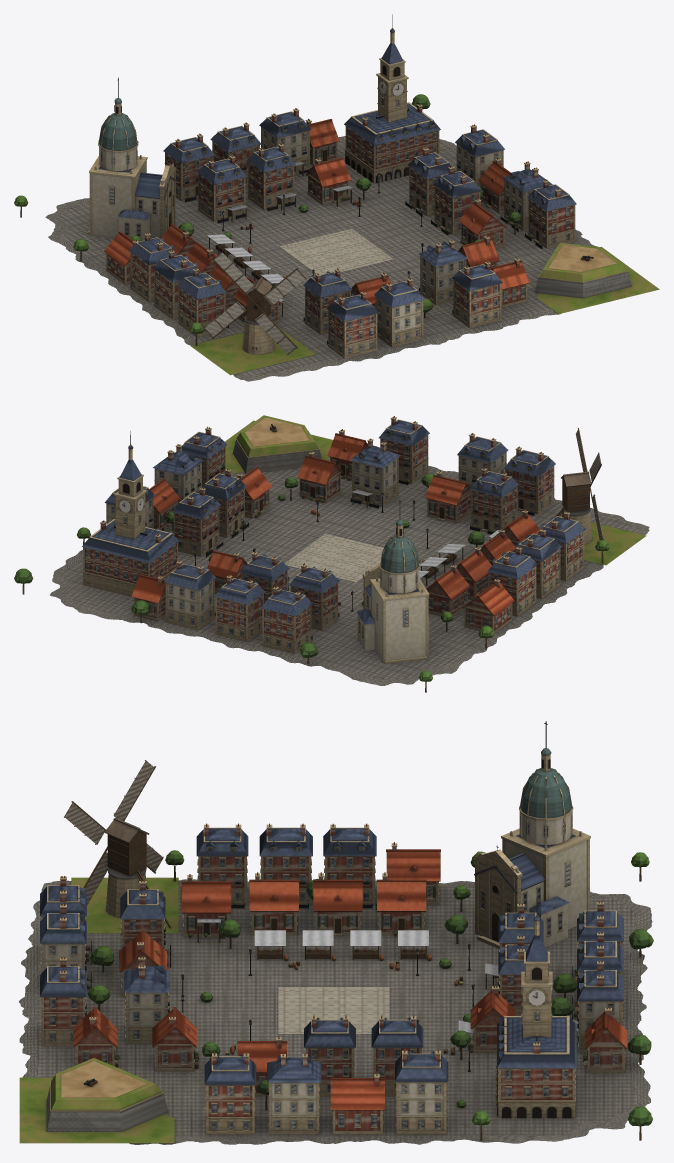
The model's file is gunpowder-town-big-b-europe-5f1c51da.glb.
3 renders of one model, top to bottom at view 1: azimuth 30°, elevation 25°; view 2: azimuth 150°, elevation 25°; view 3: azimuth 270°, elevation 25°, orthographic. The views are drawn at different scales.
Visible parts, largest first — view 1: LOD0; view 2: LOD0; view 3: LOD0.
Boxes of the visible parts, left/top/right/bottom form: LOD0: left=14, top=14, right=659, bottom=381; LOD0: left=14, top=415, right=649, bottom=692; LOD0: left=19, top=721, right=653, bottom=1144.
Size of what is drawn, in the model's own units: 8.05 by 2.8 by 8.12.
Materials: 3 (3 with a texture image).
